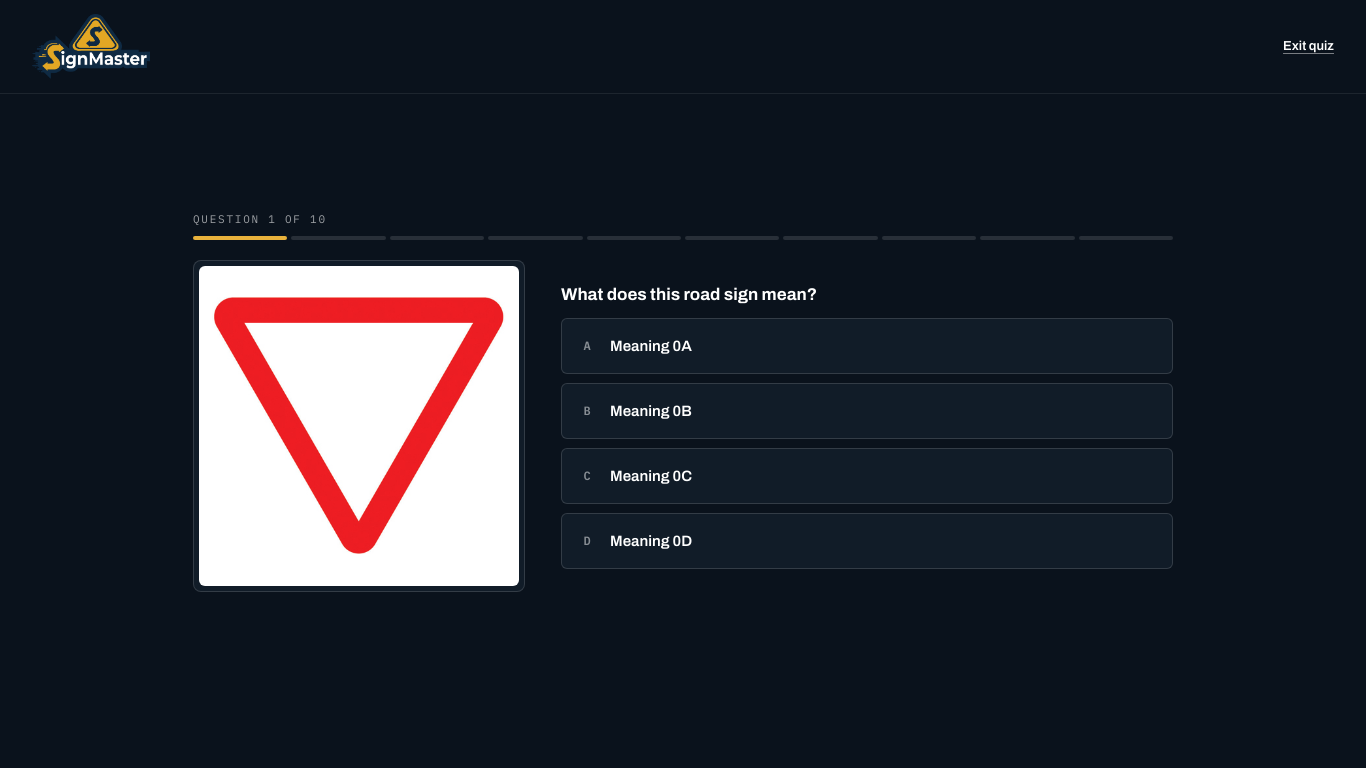
Scenario: QuizScreen › treats a tap as the answer and gives feedback immediately
Click the button with test id "answer-option-1" at (651, 411), box [561,383,1173,439]
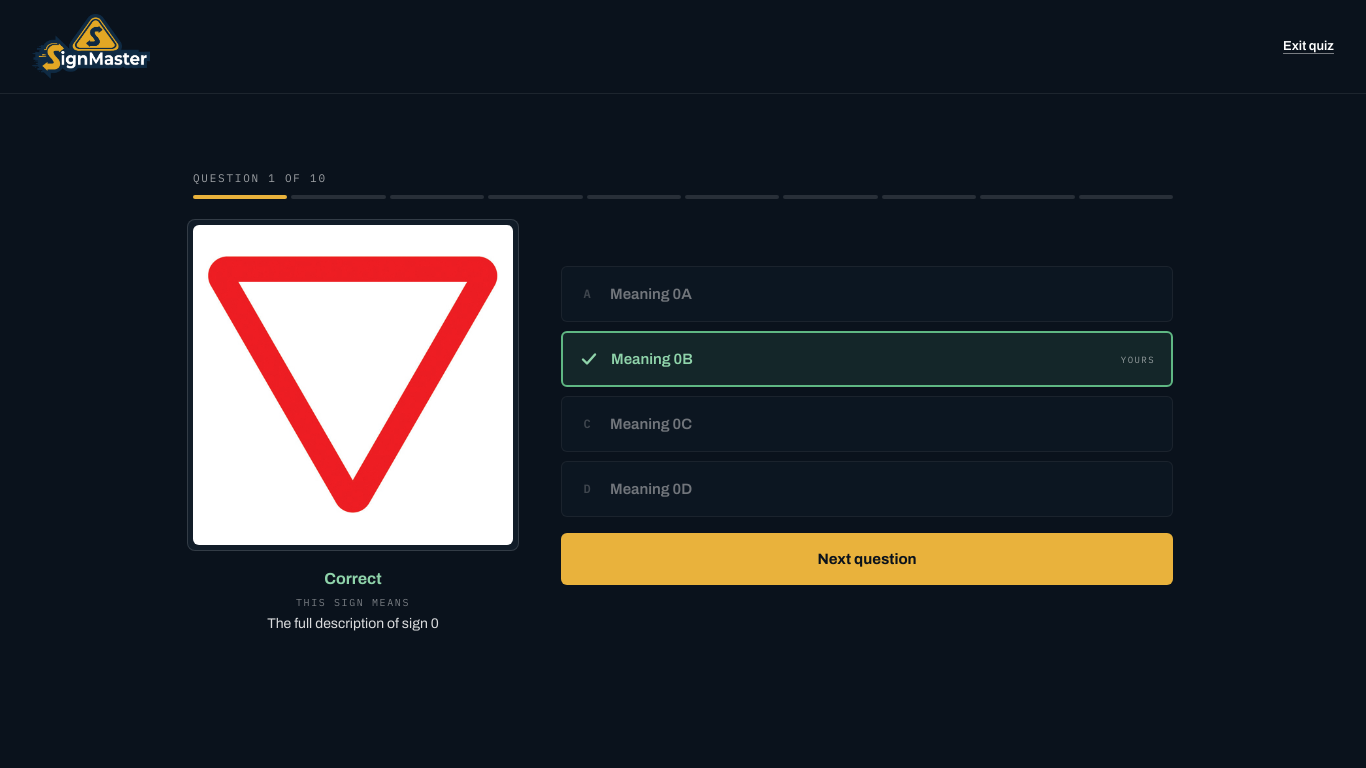
Expected: the text "Correct" is shown, [324,570,382,587]
Expected: the text "The full description of sign 0" is shown, [267,616,439,631]
Expected: the button "Next question" is shown, [561,533,1173,585]
